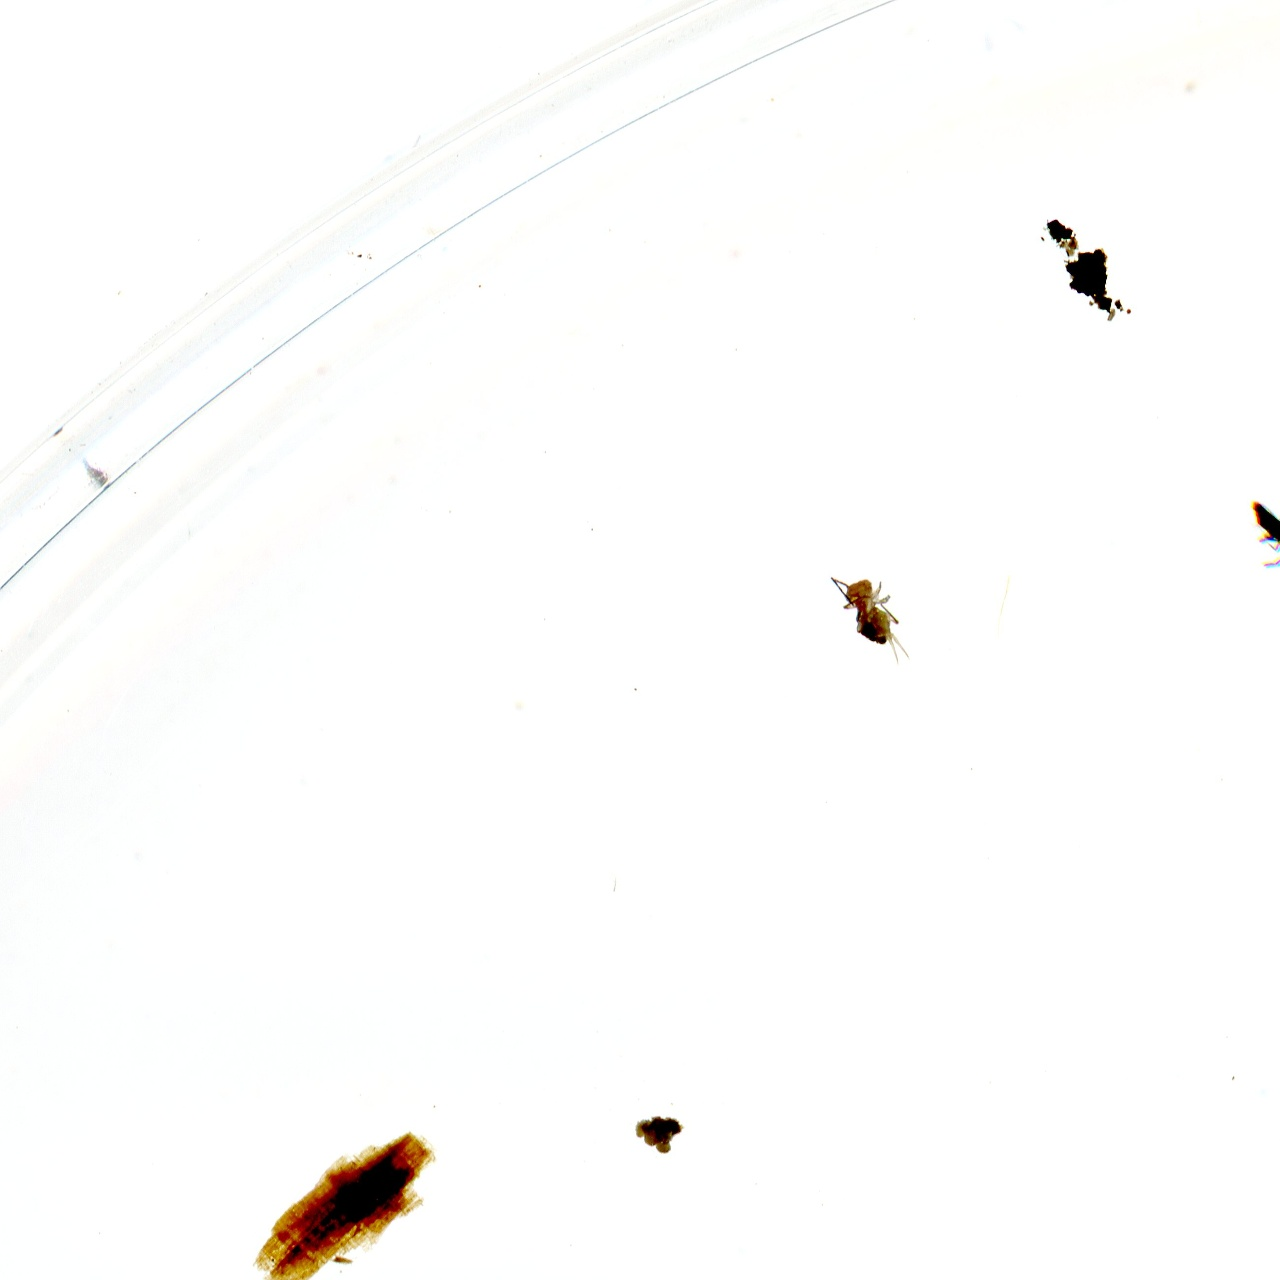arthropod: (824, 573, 912, 672), (1242, 497, 1280, 574)
